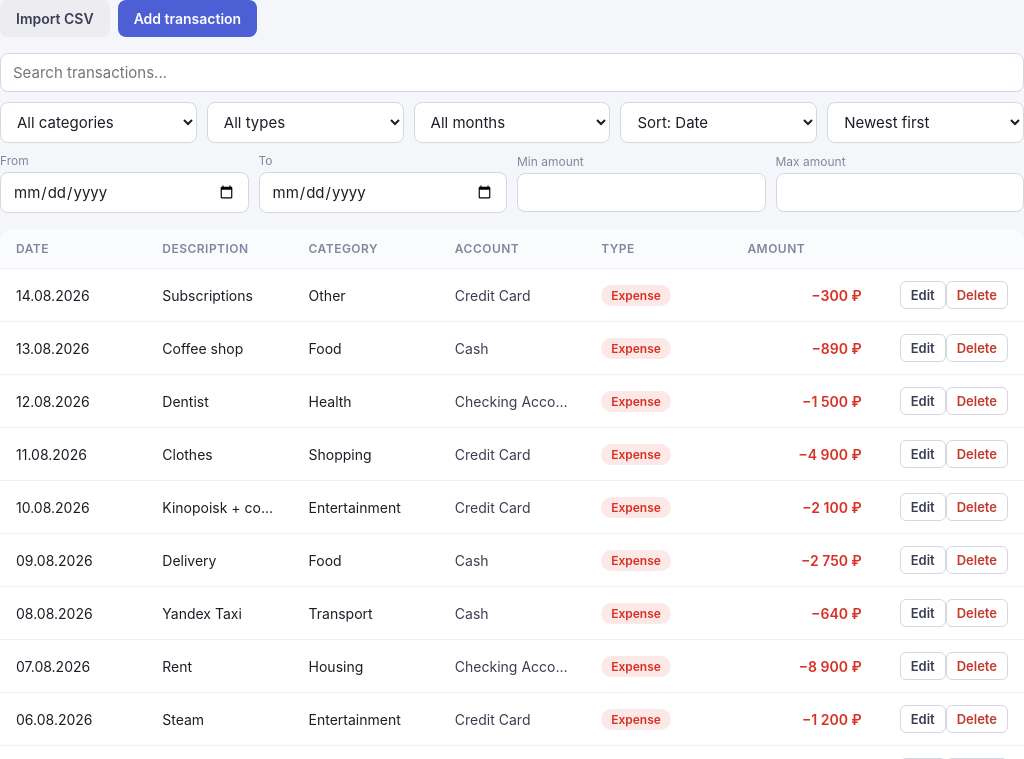
Test: transactions page › adds a transaction through the form
Click the button "Add transaction". click: (187, 18)
box: [118,0,257,37]
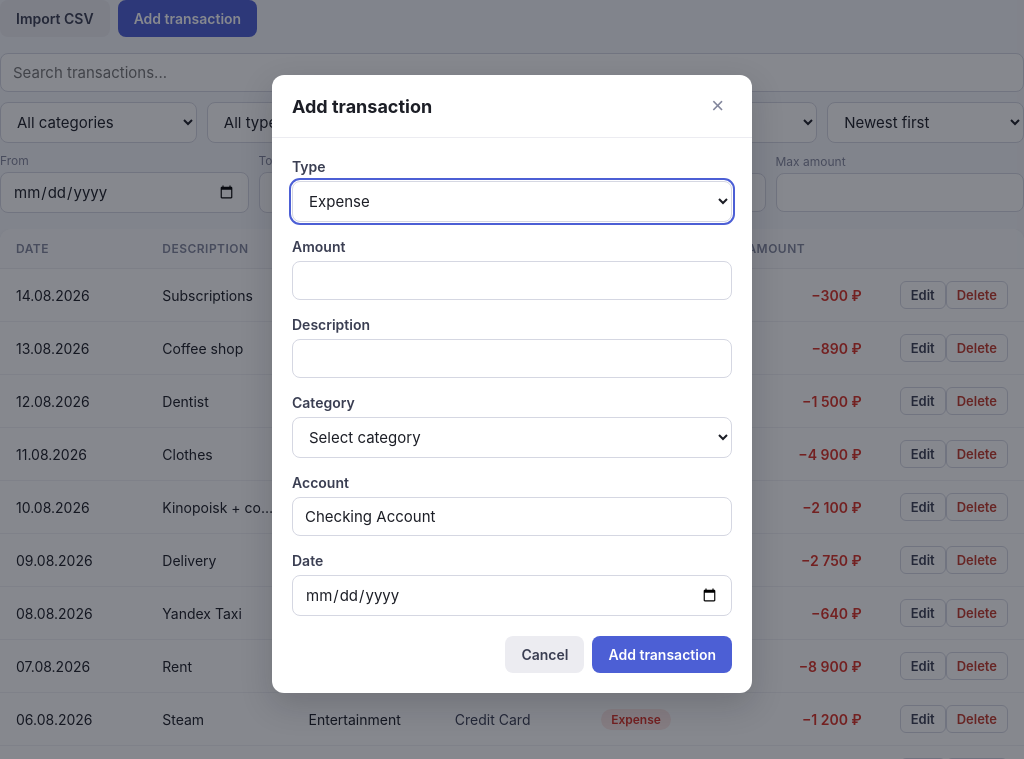
Type "1500" into the number field labelled "Amount". click: (512, 280)
box: [292,261,732,300]
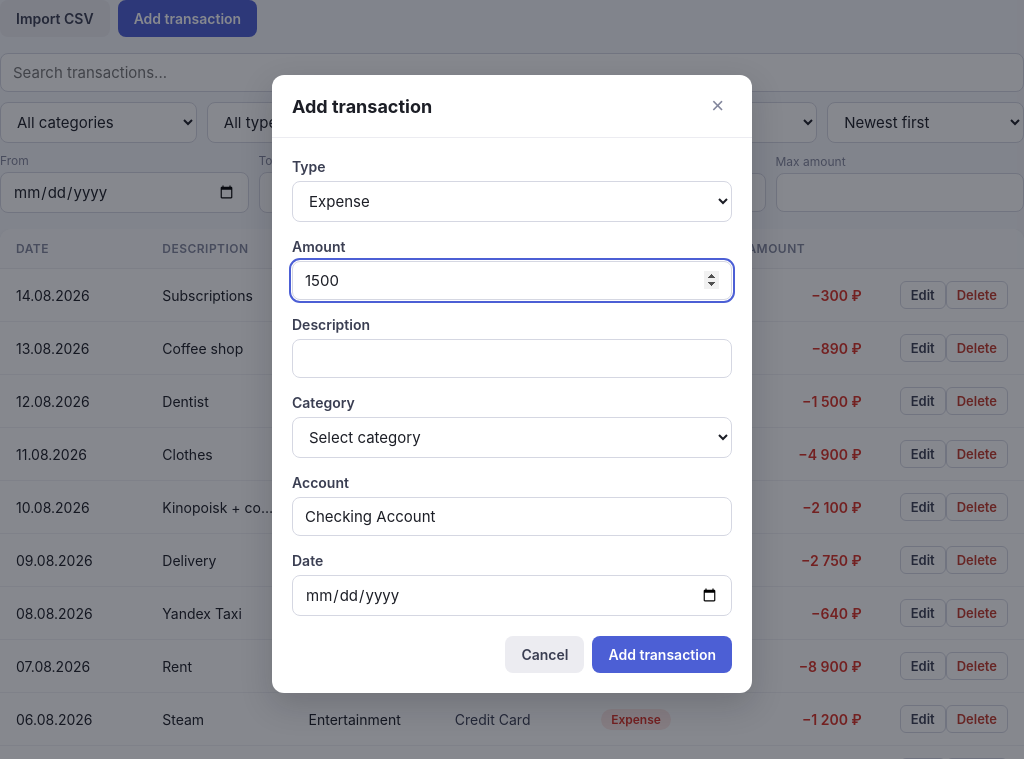
Type "Team lunch" into the field labelled "Description". click: (512, 358)
box: [292,339,732,378]
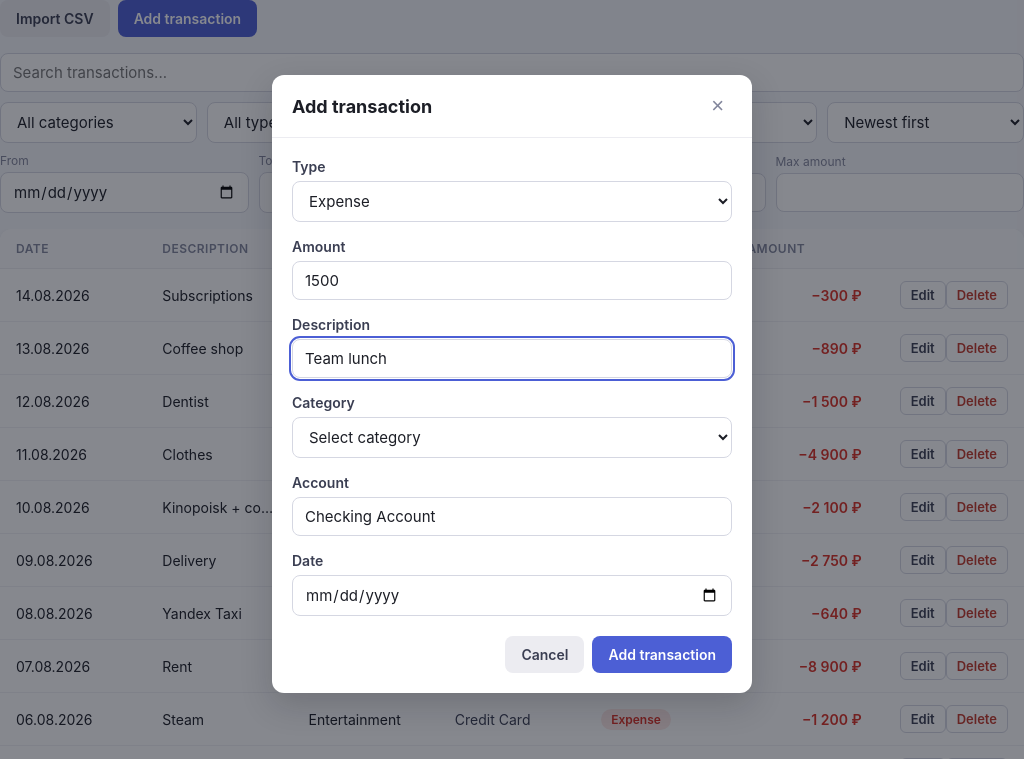
Select "Food" in the dropdown labelled "Category". click: (512, 438)
box: [292,417,732,458]
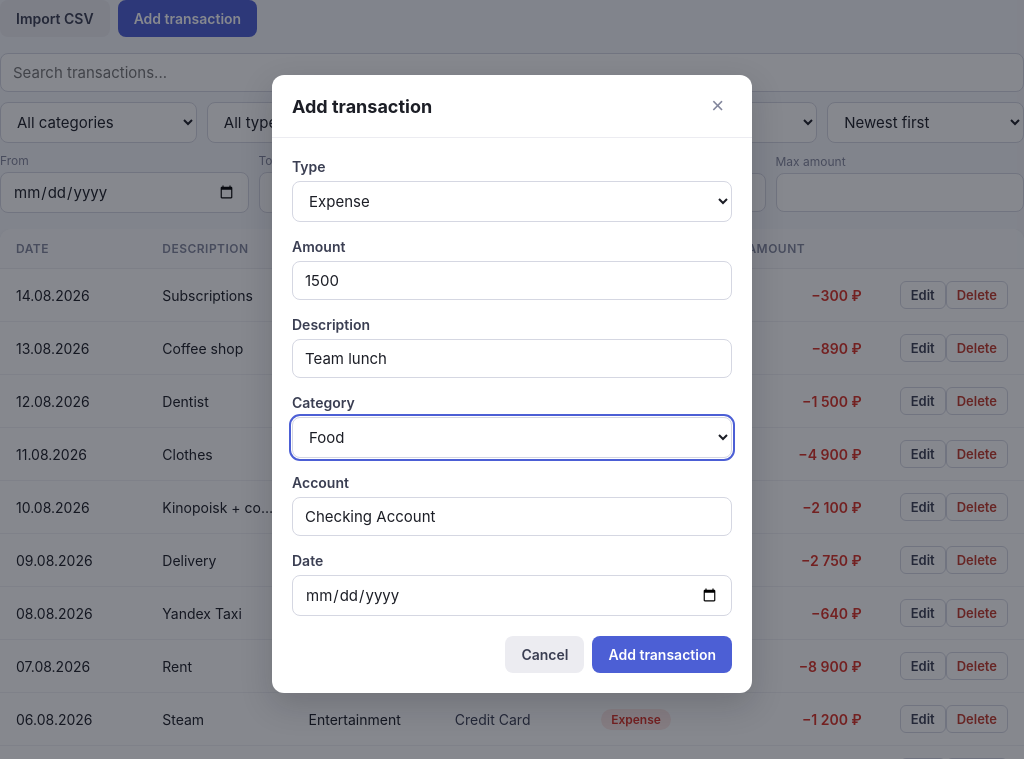
Type "2026-08-05" into the date field labelled "Date". click: (512, 596)
box: [292,575,732,616]
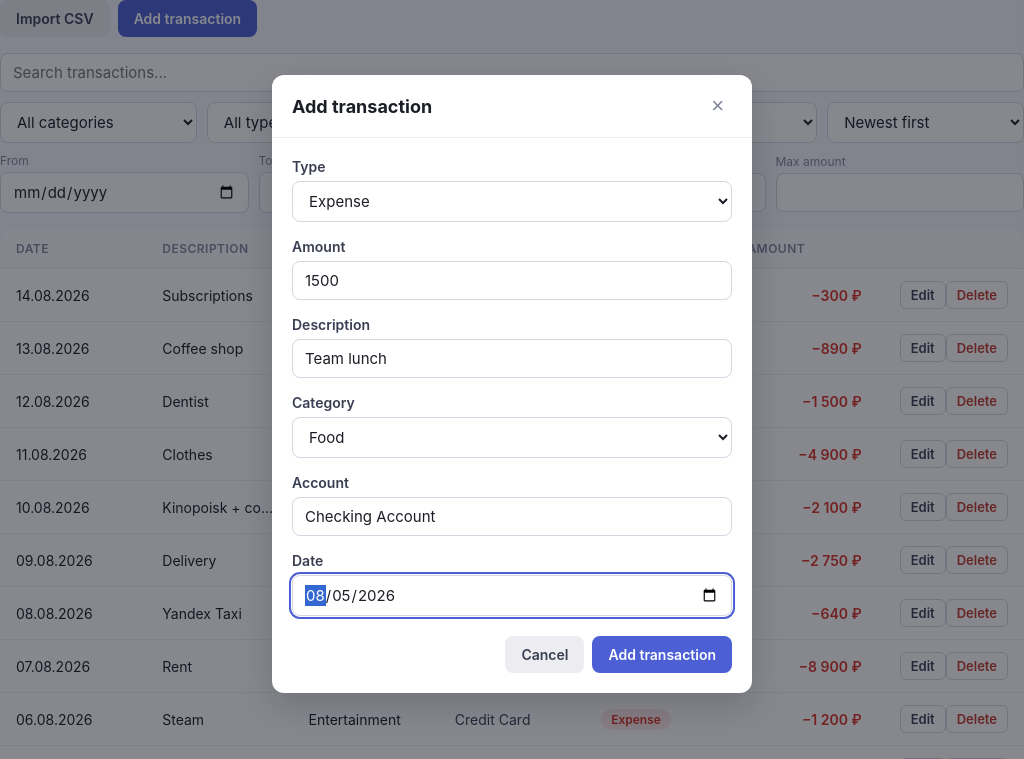
Click the button "Add transaction". click: (662, 654)
box: [592,636,732,673]
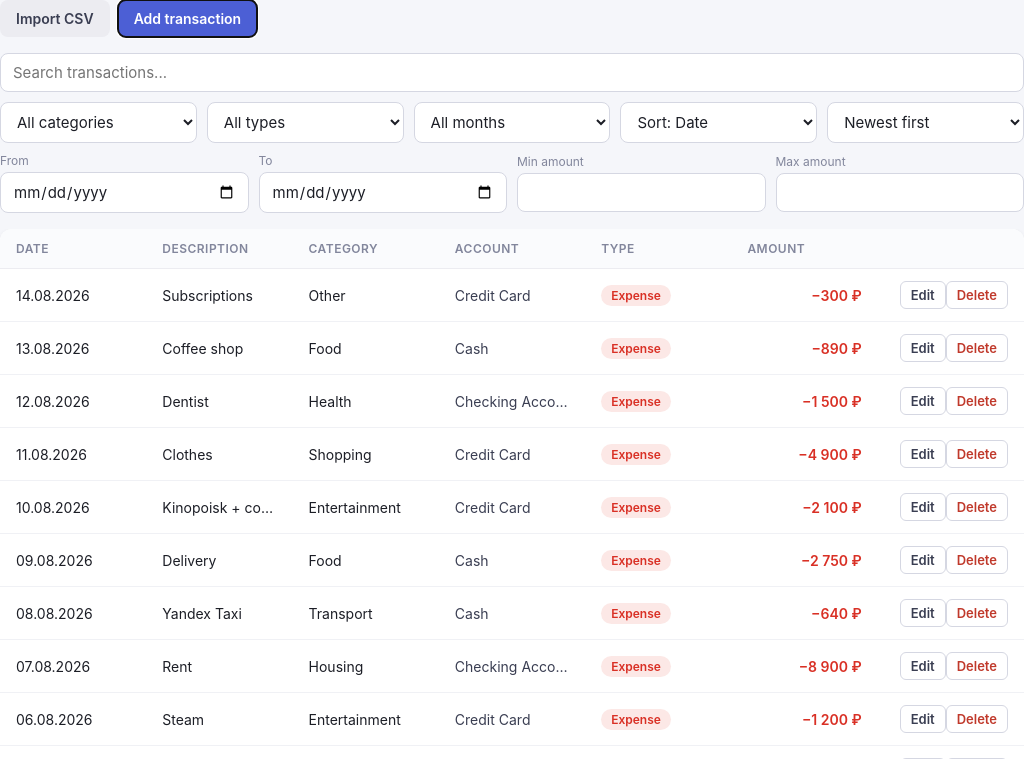
Result: the dialog is gone
